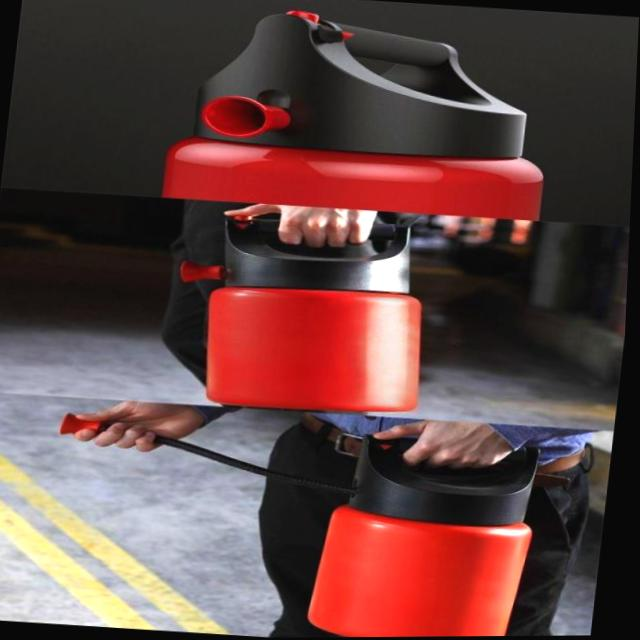FireExtinguisher: (29, 394, 582, 640), (148, 0, 568, 223), (191, 201, 438, 419)
